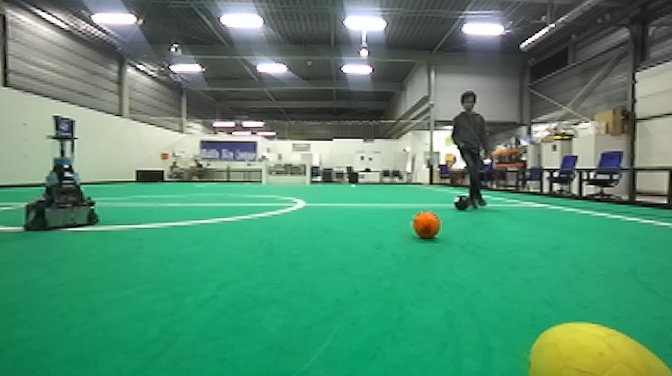ball: (519, 316, 672, 376), (409, 208, 444, 244), (451, 194, 471, 213)
goal: (261, 159, 311, 188)
goalpost: (260, 160, 268, 188), (304, 160, 311, 187)
human: (447, 88, 494, 210)
robot: (20, 109, 101, 235)
